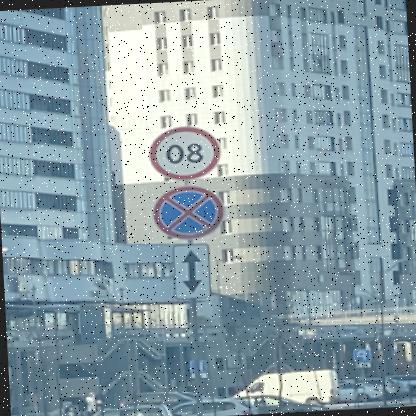speedlimit: (148, 123, 226, 180)
